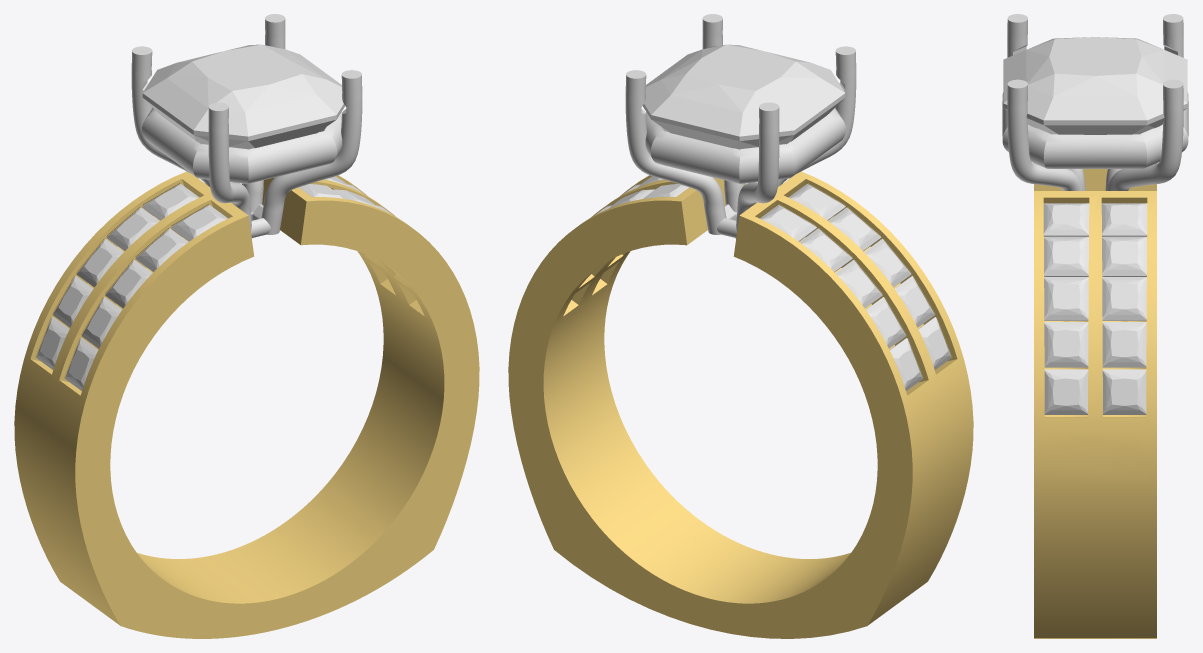
File: AmyYGpteng_blender.glb
The picture shows the model from 3 angles, left to right: view 1: azimuth 30°, elevation 25°; view 2: azimuth 150°, elevation 25°; view 3: azimuth 270°, elevation 25°; orthographic projection.
Parts seen in each view (by area): view 1: Amy YG for 3d model, Amy PT for 3d model, Amy center dia for 3d model, Amy dia for 3d model.016, Amy dia for 3d model.013, Amy dia for 3d model.017, Amy dia for 3d model.012, Amy dia for 3d model.018, Amy dia for 3d model.011, Amy dia for 3d model.014, Amy dia for 3d model.015, Amy dia for 3d model.019 (+1 smaller); view 2: Amy YG for 3d model, Amy PT for 3d model, Amy center dia for 3d model, Amy dia for 3d model.013, Amy dia for 3d model.016, Amy dia for 3d model.012, Amy dia for 3d model.017, Amy dia for 3d model.011, Amy dia for 3d model.018, Amy dia for 3d model.014, Amy dia for 3d model.015, Amy dia for 3d model.010 (+1 smaller); view 3: Amy YG for 3d model, Amy center dia for 3d model, Amy PT for 3d model, Amy dia for 3d model.003, Amy dia for 3d model.006, Amy dia for 3d model.004, Amy dia for 3d model.005, Amy dia for 3d model.002, Amy dia for 3d model.007, Amy dia for 3d model.001, Amy dia for 3d model.008, Amy dia for 3d model (+1 smaller).
Boxes of the visible parts, x1,y1,x2,y2 form: Amy YG for 3d model: [14, 171, 479, 638]; Amy PT for 3d model: [131, 14, 362, 238]; Amy center dia for 3d model: [142, 44, 344, 149]; Amy dia for 3d model.016: [135, 228, 188, 272]; Amy dia for 3d model.013: [106, 207, 159, 251]; Amy dia for 3d model.017: [105, 259, 152, 308]; Amy dia for 3d model.012: [76, 238, 123, 287]; Amy dia for 3d model.018: [81, 297, 121, 348]; Amy dia for 3d model.011: [53, 276, 93, 327]; Amy dia for 3d model.014: [142, 184, 199, 220]; Amy dia for 3d model.015: [171, 205, 227, 241]; Amy dia for 3d model.019: [65, 338, 98, 390]; Amy YG for 3d model: [508, 171, 973, 638]; Amy PT for 3d model: [625, 14, 856, 238]; Amy center dia for 3d model: [643, 44, 845, 149]; Amy dia for 3d model.013: [799, 228, 852, 272]; Amy dia for 3d model.016: [828, 207, 881, 251]; Amy dia for 3d model.012: [835, 260, 882, 308]; Amy dia for 3d model.017: [864, 238, 911, 287]; Amy dia for 3d model.011: [866, 297, 906, 348]; Amy dia for 3d model.018: [894, 276, 934, 327]; Amy dia for 3d model.014: [760, 205, 816, 241]; Amy dia for 3d model.015: [788, 184, 845, 220]; Amy dia for 3d model.010: [889, 338, 922, 390]; Amy YG for 3d model: [1034, 169, 1156, 638]; Amy center dia for 3d model: [1003, 37, 1187, 134]; Amy PT for 3d model: [1002, 14, 1188, 190]; Amy dia for 3d model.003: [1044, 322, 1088, 367]; Amy dia for 3d model.006: [1102, 322, 1146, 367]; Amy dia for 3d model.004: [1044, 369, 1088, 414]; Amy dia for 3d model.005: [1102, 369, 1146, 414]; Amy dia for 3d model.002: [1044, 277, 1088, 320]; Amy dia for 3d model.007: [1102, 277, 1146, 320]; Amy dia for 3d model.001: [1044, 236, 1088, 276]; Amy dia for 3d model.008: [1102, 236, 1146, 276]; Amy dia for 3d model: [1043, 203, 1089, 236].
Size of the model in its own units: 20.72 by 26.69 by 8.15.
